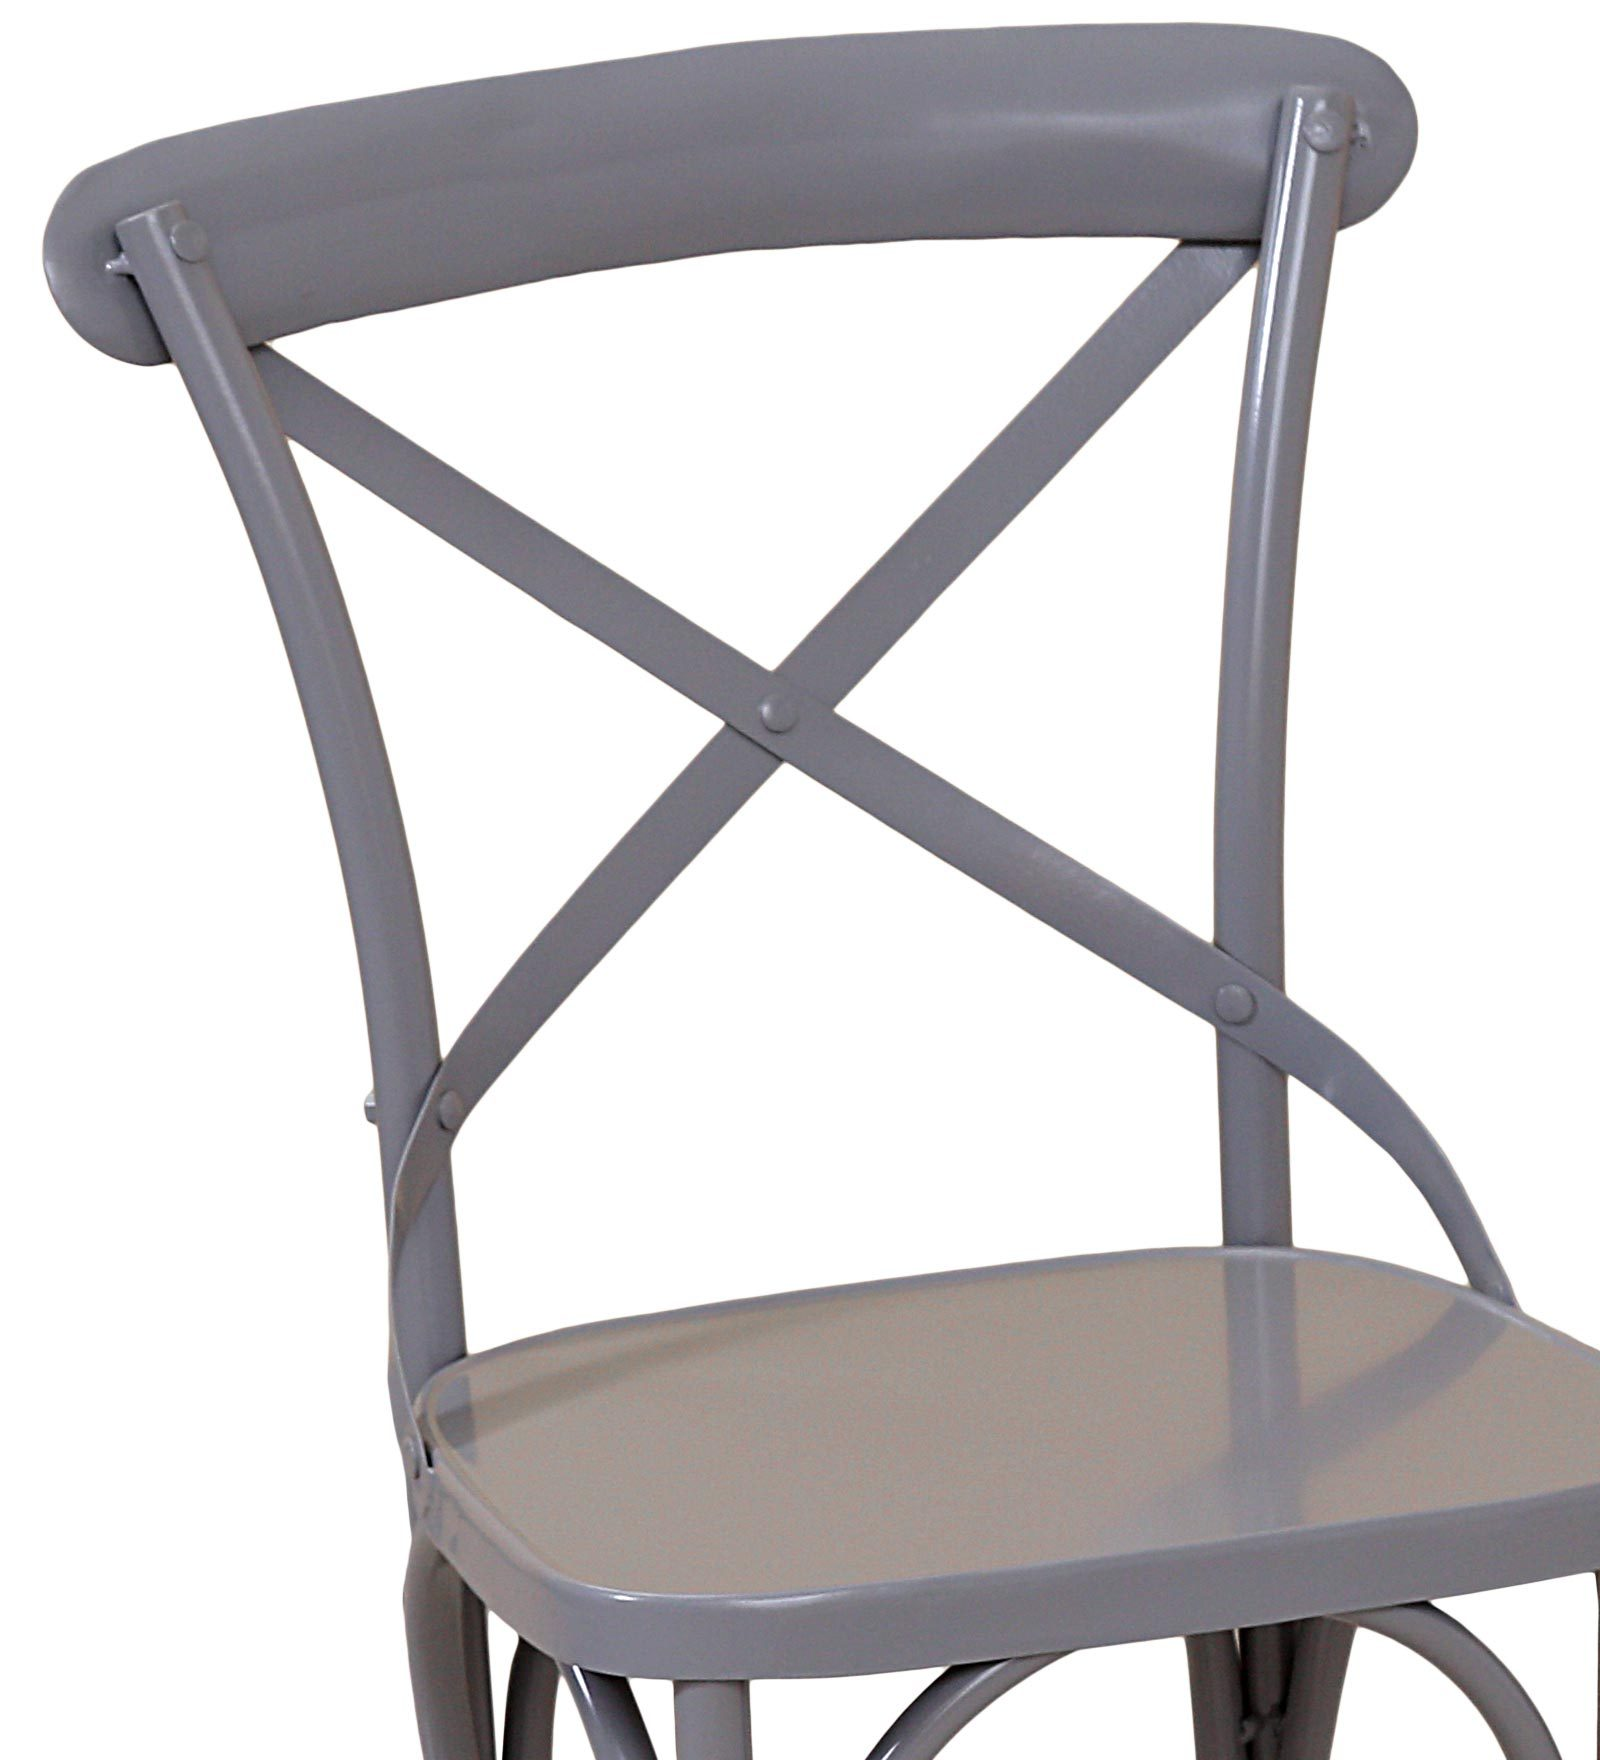Fabian Metal Chair in Steel Grey Color by Bohemiana: (44, 15, 1600, 1734)
